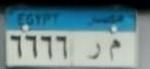6: (55, 35, 70, 60), (40, 34, 53, 61), (25, 34, 38, 60), (10, 34, 23, 60)
meem: (107, 36, 122, 65)
raa: (86, 41, 103, 62)
